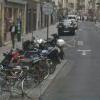Motorcycle: (8, 38, 60, 90)
